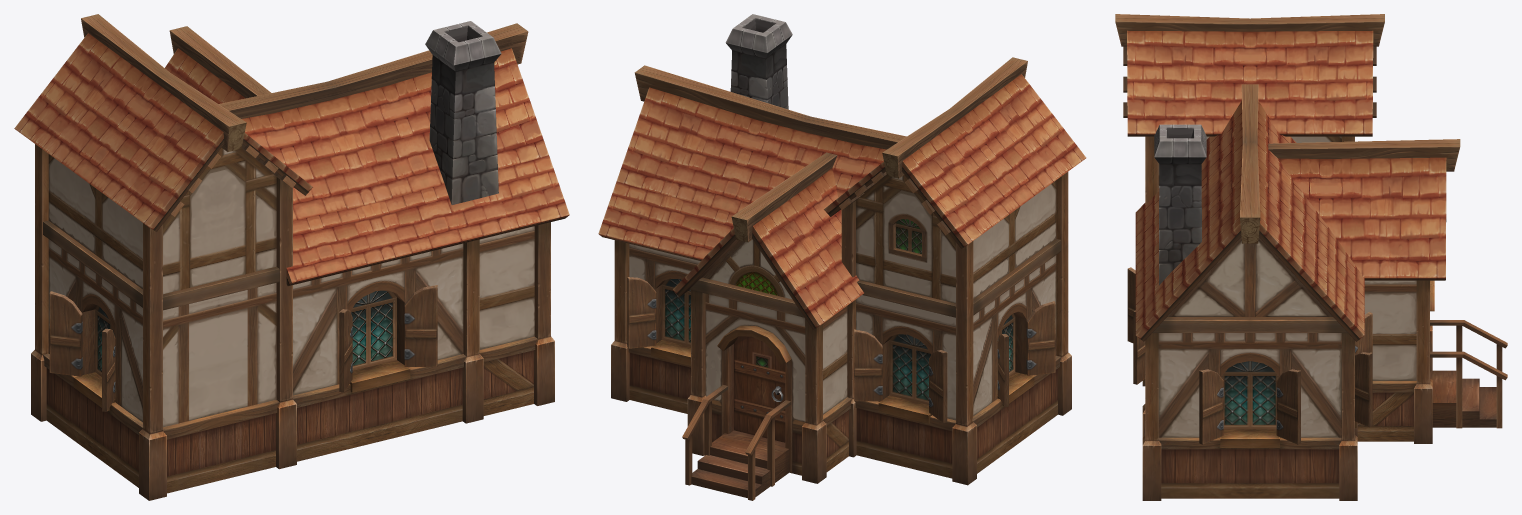
File: House2_LOD.fbx
3 renders of one model, left to right at view 1: azimuth 30°, elevation 25°; view 2: azimuth 150°, elevation 25°; view 3: azimuth 270°, elevation 25°, orthographic. The views are drawn at different scales.
Parts seen in each view (by area): view 1: House2_LOD0; view 2: House2_LOD0; view 3: House2_LOD0.
Boxes of the visible parts, x1=… form: House2_LOD0: x1=14, y1=14, x2=569, y2=500; House2_LOD0: x1=598, y1=14, x2=1086, y2=500; House2_LOD0: x1=1115, y1=14, x2=1507, y2=500.
Size of what is drawn, in the model's own units: 918 by 726 by 767.
1 material, 1 textured.
